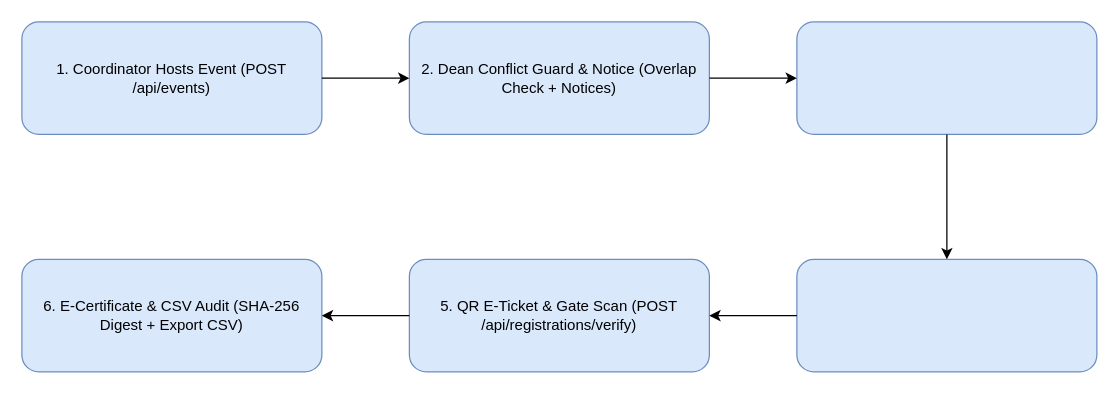
Image size: 1119x394. Some labels were removed from this diagram. The shapes that lost their labels are listed below. From the top down, each one's centre as x and y in pixels, then its label:
At point (946, 77): "3. Student Browsing & AI Match (Python /api/ai/recommend)".
At point (946, 315): "4. Registration & UTR Check (POST /api/registrations)".
